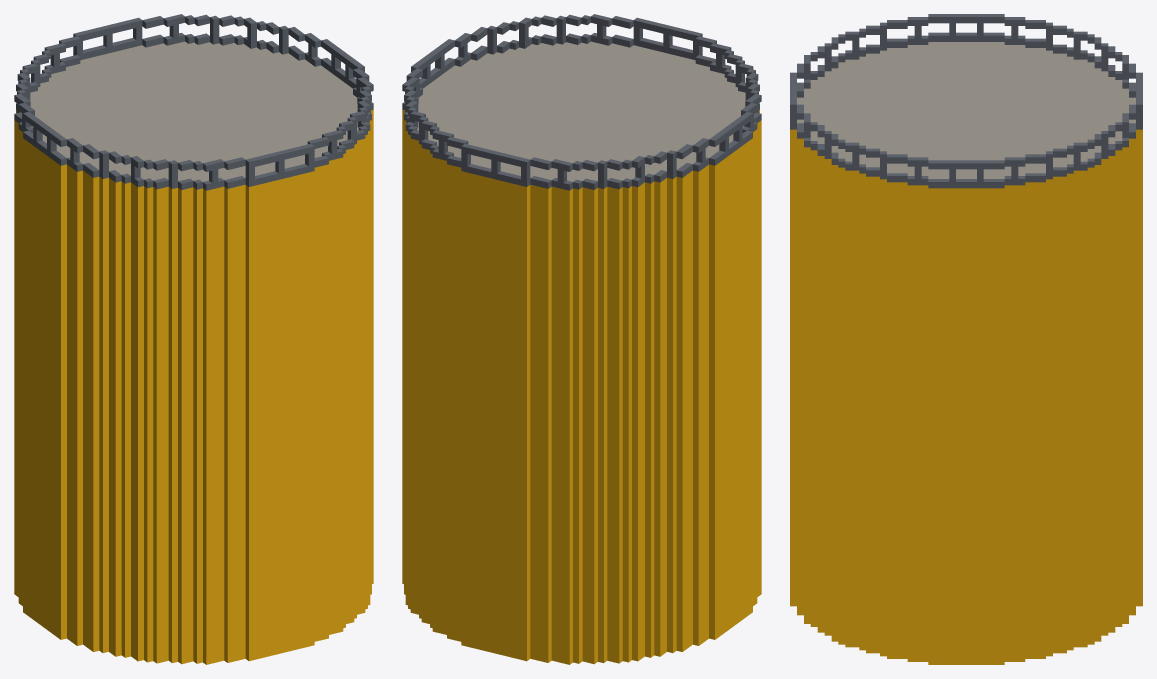
Rendered from tower2.obj.
3 renders of one model, left to right at view 1: azimuth 30°, elevation 25°; view 2: azimuth 150°, elevation 25°; view 3: azimuth 270°, elevation 25°, orthographic.
Bounding box in the file's own units: 5.1 × 8 × 5.1.
Materials: 1 (1 with a texture image).
